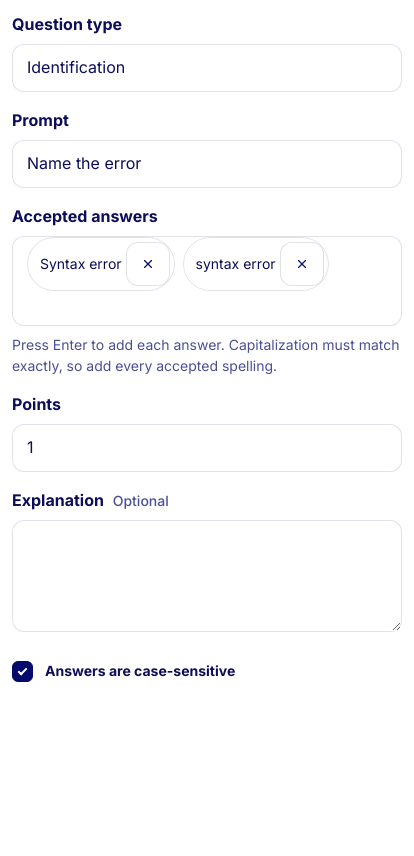
Test: QuestionForm identification answers › merges variants that only differ by capitalization once case-sensitivity is turned off
expect the number of buttons named "Remove answer" is 2: met, box [126, 242, 170, 286]; [280, 242, 324, 286]
Click the checkbox labelled "Answers are case-sensitive": (124, 672) [12, 661, 235, 682]
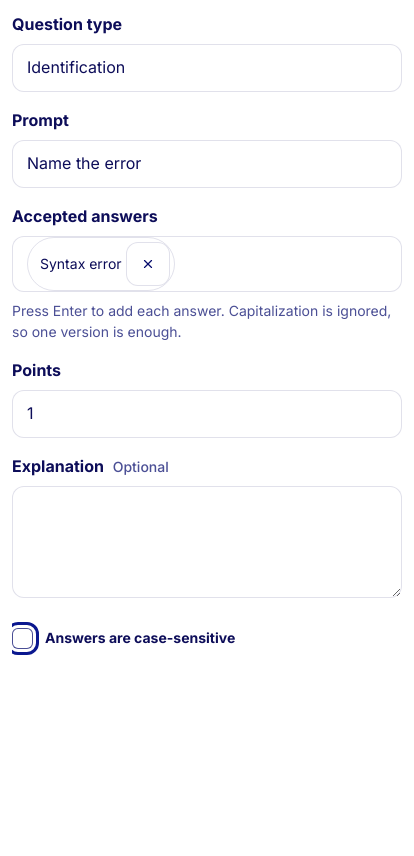
expect the number of buttons named "Remove answer" is 1: met, box [126, 242, 170, 286]
